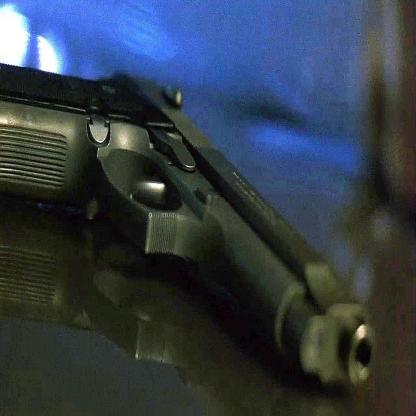gun: (1, 12, 392, 404)
